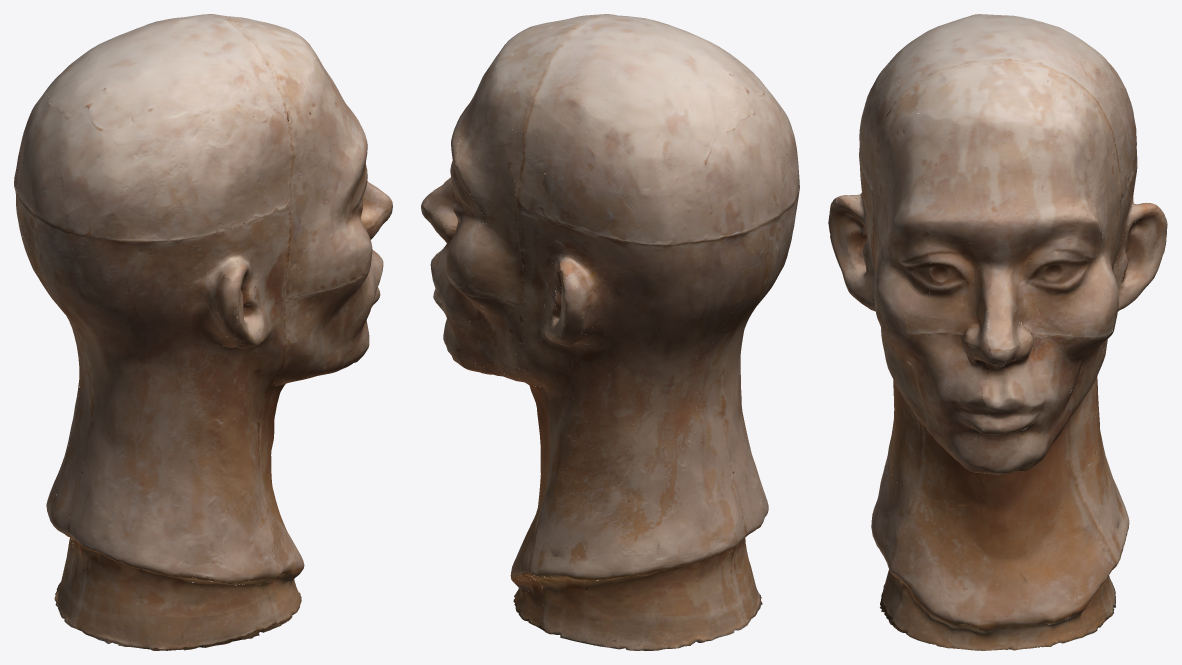
File: ohyoon.glb
3 renders of one model, left to right at view 1: azimuth 30°, elevation 25°; view 2: azimuth 150°, elevation 25°; view 3: azimuth 270°, elevation 25°, orthographic.
Parts seen in each view (by area): view 1: Mesh_0_Part_0; view 2: Mesh_0_Part_0; view 3: Mesh_0_Part_0.
Boxes of the visible parts, <box> form: Mesh_0_Part_0: <box>14,14,392,650</box>; Mesh_0_Part_0: <box>421,14,799,650</box>; Mesh_0_Part_0: <box>828,14,1167,650</box>.
Size of the model in its own units: 2.05 by 3.09 by 1.66.
1 material, 1 textured.
